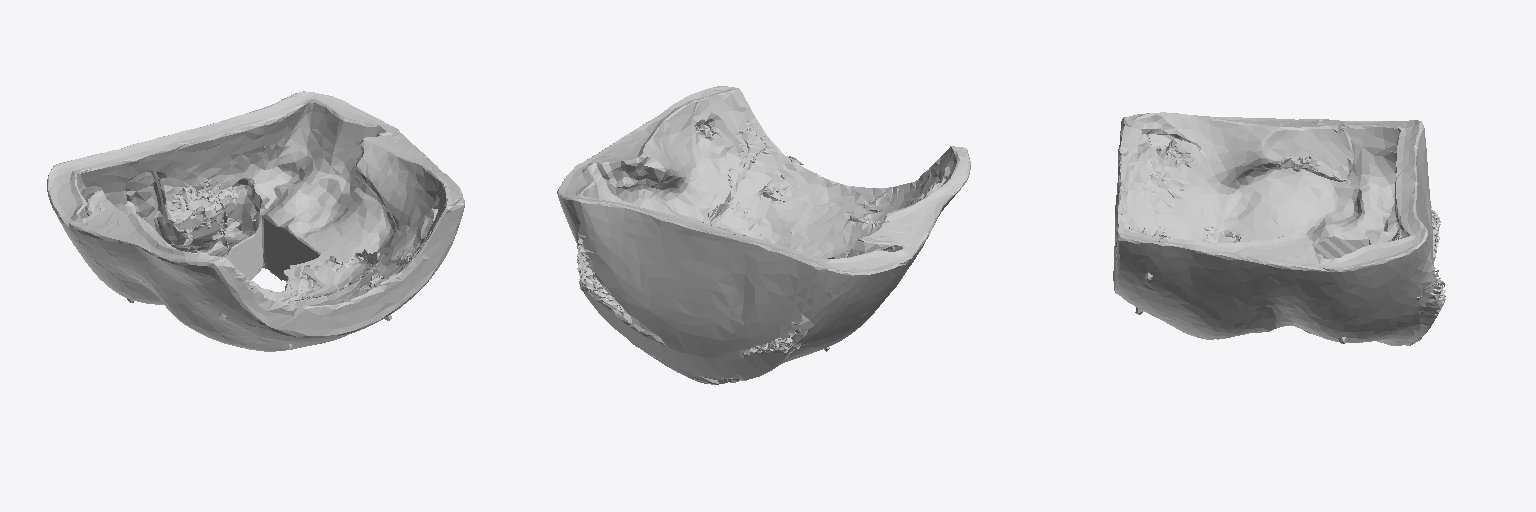
File: body_Face.OBJ
The picture shows the model from 3 angles: view 1: azimuth 30°, elevation 25°; view 2: azimuth 150°, elevation 25°; view 3: azimuth 270°, elevation 25°; orthographic projection.
Visible parts, largest first — view 1: body_Face.001; view 2: body_Face.001; view 3: body_Face.001.
Boxes of the visible parts, <box> form: body_Face.001: <box>47,91,464,351</box>; body_Face.001: <box>557,86,970,384</box>; body_Face.001: <box>1113,112,1445,345</box>.
Bounding box in the file's own units: 163 × 77.4 × 142.